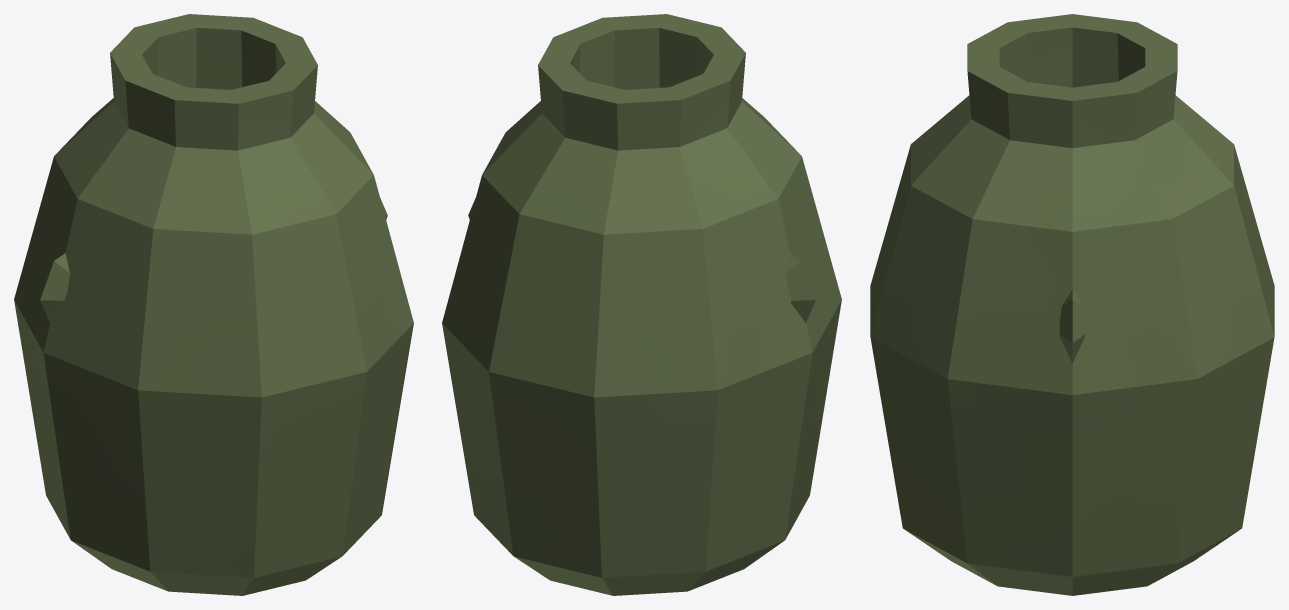
The model's file is WarrensC_WVC048_OliveStorageJar_Mars_SM.fbx.
The picture shows the model from 3 angles, left to right: view 1: azimuth 30°, elevation 25°; view 2: azimuth 150°, elevation 25°; view 3: azimuth 270°, elevation 25°; orthographic projection.
Visible parts, largest first — view 1: WarrensC_WVC048_OliveStorageJar_Mars_SM.001; view 2: WarrensC_WVC048_OliveStorageJar_Mars_SM.001; view 3: WarrensC_WVC048_OliveStorageJar_Mars_SM.001.
Part boxes in pixels (left/top/right/bottom): WarrensC_WVC048_OliveStorageJar_Mars_SM.001: left=14, top=14, right=413, bottom=595; WarrensC_WVC048_OliveStorageJar_Mars_SM.001: left=442, top=14, right=841, bottom=595; WarrensC_WVC048_OliveStorageJar_Mars_SM.001: left=870, top=14, right=1274, bottom=595.
Bounding box in the file's own units: 45 × 45 × 60.
